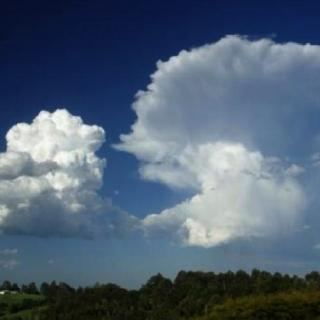Cumulonimbus: (0, 31, 320, 250)
